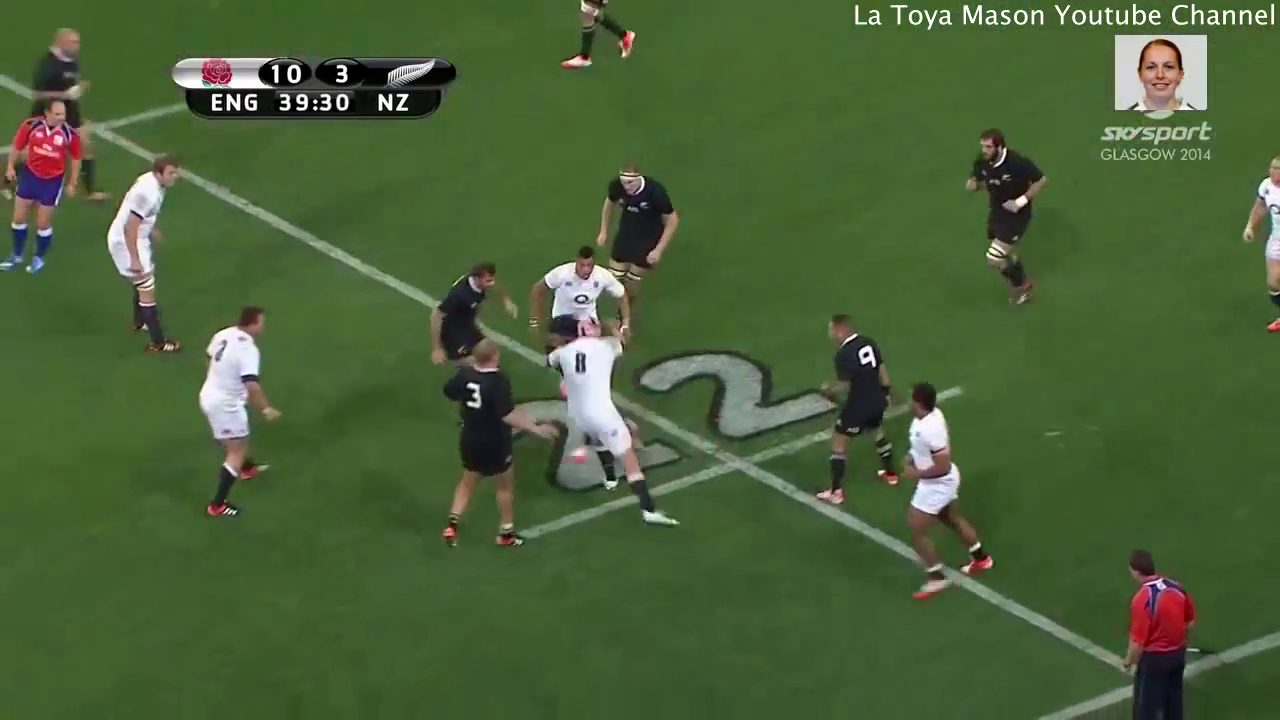player: (524, 296, 698, 549), (425, 327, 543, 568), (893, 374, 1004, 616), (184, 299, 292, 528), (800, 301, 915, 515), (953, 118, 1065, 324), (101, 144, 195, 360), (578, 150, 685, 329), (1, 84, 94, 283), (21, 17, 113, 206), (525, 239, 659, 360), (419, 258, 521, 390), (1235, 145, 1280, 353), (553, 1, 645, 76)
